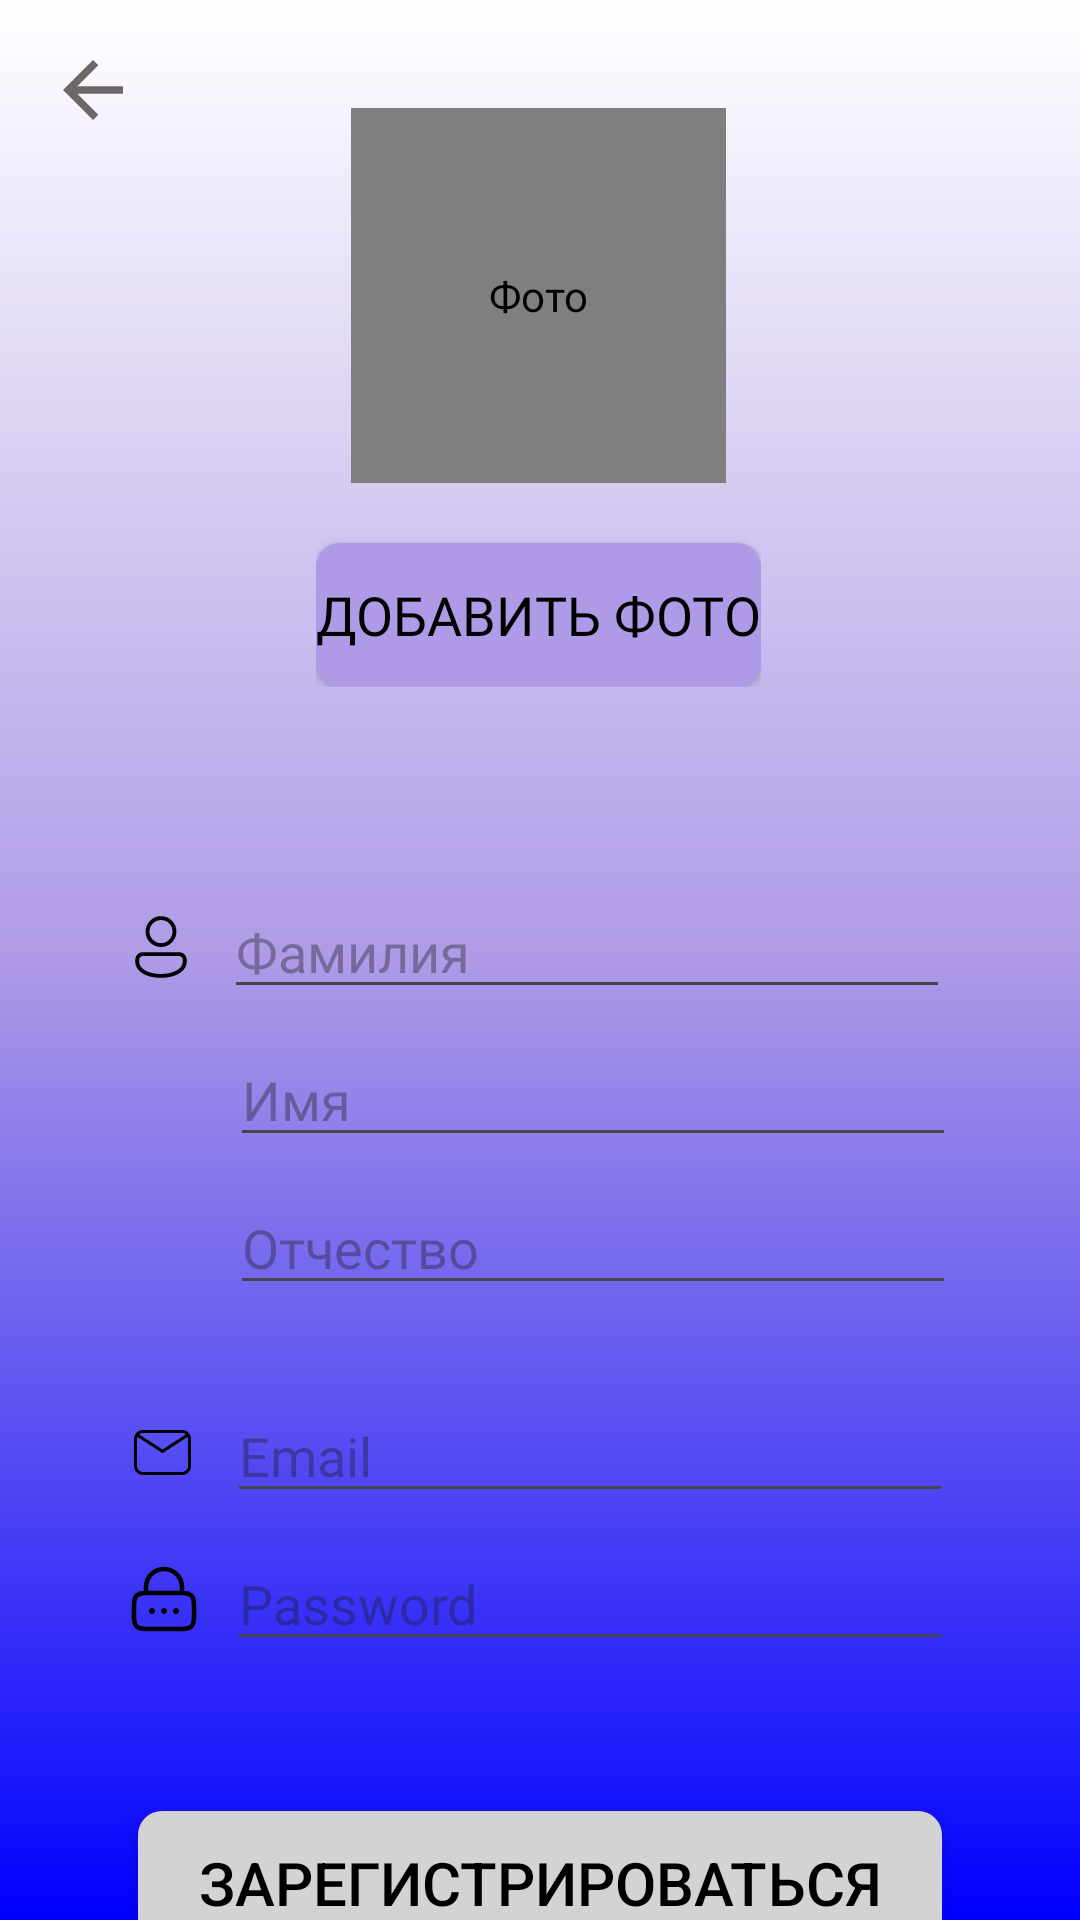

Where icons sit on this 1080 × 1920 app screen, as (x1, y1, x2, y2):
back: (63, 60, 123, 120)
username: (135, 916, 187, 978)
